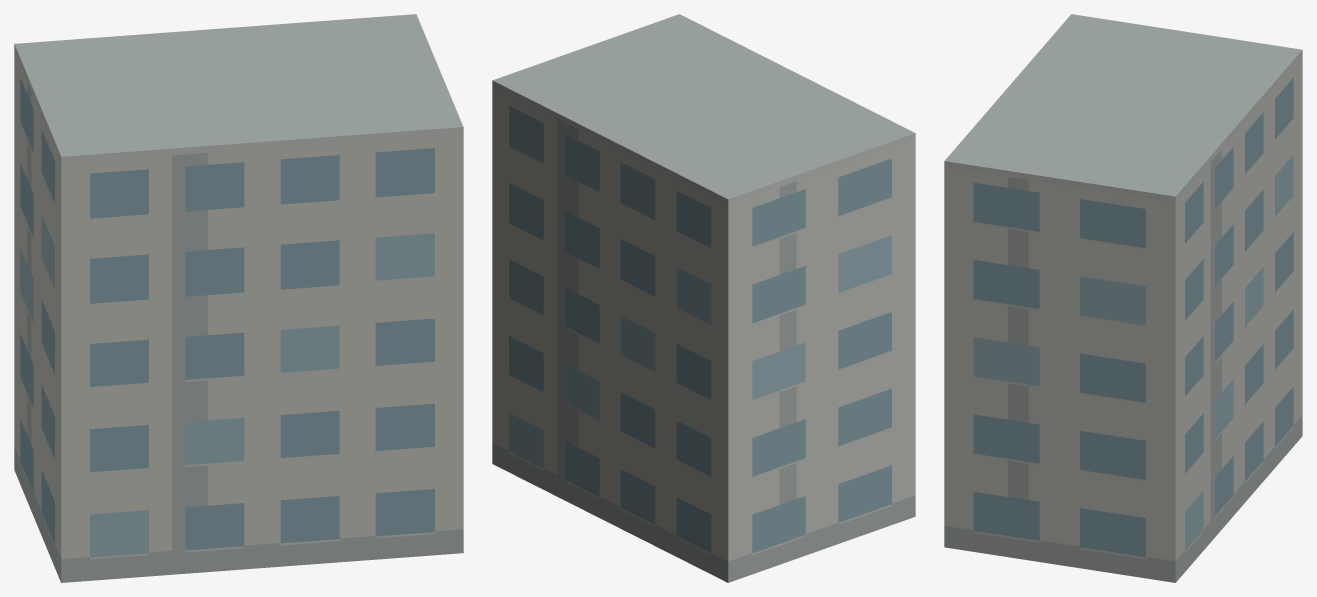
File: residential-b66aae21-4799-46e6-965f-4766e30a4a59.glb
3 views of the same model, side by side, from view 1: azimuth 30°, elevation 25°; view 2: azimuth 150°, elevation 25°; view 3: azimuth 270°, elevation 25° (orthographic). The views are drawn at different scales.
Visible parts, largest first — view 1: residential-b66aae21-4799-46e6-965f-4766e30a4a59.tmp; view 2: residential-b66aae21-4799-46e6-965f-4766e30a4a59.tmp; view 3: residential-b66aae21-4799-46e6-965f-4766e30a4a59.tmp.
Boxes of the visible parts, <box> form: residential-b66aae21-4799-46e6-965f-4766e30a4a59.tmp: <box>14,14,463,582</box>; residential-b66aae21-4799-46e6-965f-4766e30a4a59.tmp: <box>492,14,915,582</box>; residential-b66aae21-4799-46e6-965f-4766e30a4a59.tmp: <box>944,14,1302,582</box>.
Size of the model in its own units: 15.47 by 15.25 by 12.82.
